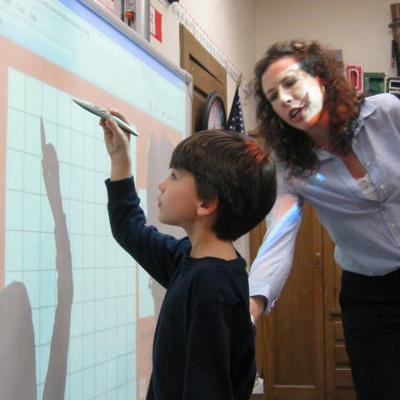person: (99, 110, 276, 400)
